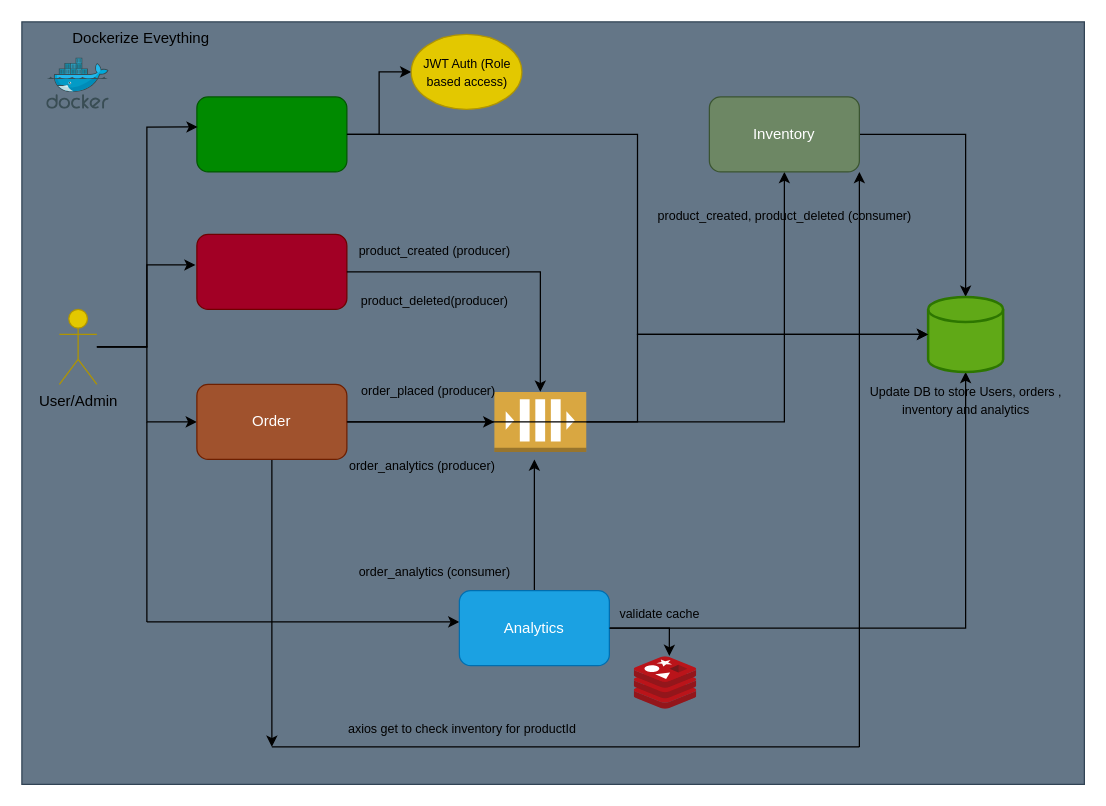
This 1106x806 diagram has some shape labels left out. The box of each missing label's shape, as (x1, y1, x2, y2) in pixels:
Authentication: (196, 96, 347, 172)
Mongodb: (926, 295, 1004, 372)
Product catalog: (196, 233, 347, 309)
